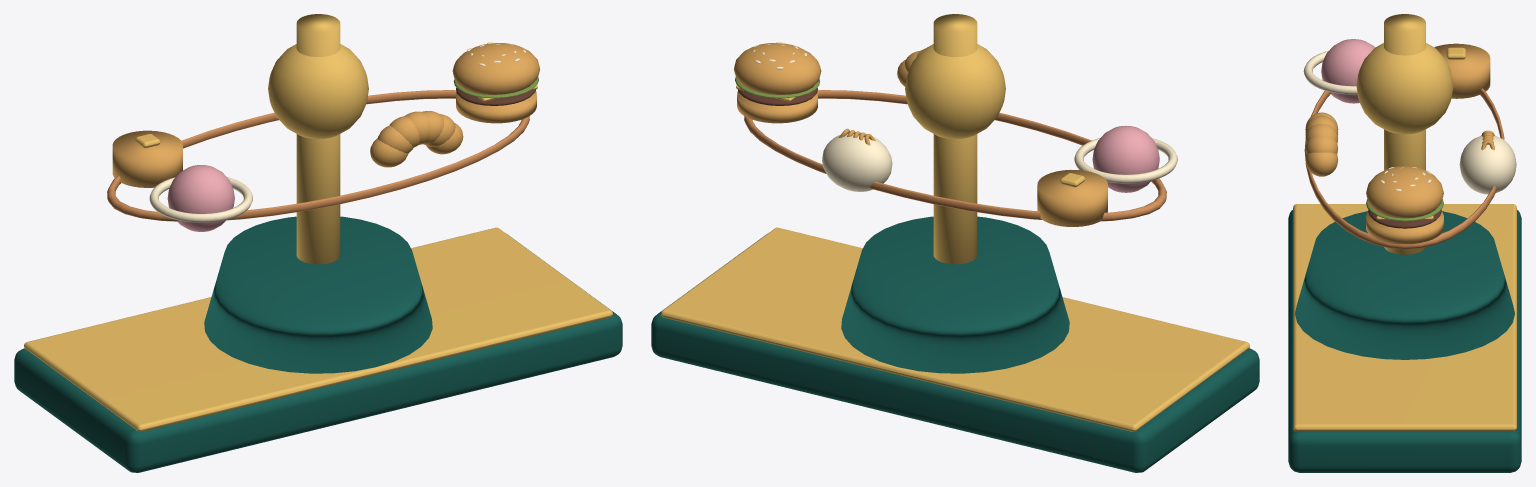
The picture shows the model from 3 angles, left to right: view 1: azimuth 30°, elevation 25°; view 2: azimuth 150°, elevation 25°; view 3: azimuth 270°, elevation 25°; orthographic projection. The views are drawn at different scales.
Visible parts, largest first — view 1: Jade footing, Brass welt, Orbit rim, Lower bun, Flaky crescent, Pancake planet, Sundae planet, Sundae ring; view 2: Jade footing, Brass welt, Lower bun, Orbit rim, Pancake planet, Pleated dumpling, Sundae planet, Sundae ring; view 3: Jade footing, Brass welt, Lower bun, Pleated dumpling, Orbit rim, Sundae planet, Pancake planet, Flaky crescent, Sundae ring, Patty, Lettuce.
Part boxes in pixels (box(x1,y1,x2,y2)): Jade footing: box(14, 216, 622, 472); Brass welt: box(24, 14, 612, 431); Orbit rim: box(107, 90, 529, 221); Lower bun: box(452, 43, 539, 123); Flaky crescent: box(370, 111, 463, 167); Pancake planet: box(112, 130, 182, 187); Sundae planet: box(167, 165, 234, 231); Sundae ring: box(149, 177, 252, 222); Jade footing: box(651, 216, 1259, 472); Brass welt: box(661, 14, 1249, 431); Lower bun: box(734, 43, 821, 123); Orbit rim: box(744, 90, 1166, 221); Pancake planet: box(1037, 169, 1107, 226); Pleated dumpling: box(822, 132, 892, 191); Sundae planet: box(1092, 125, 1159, 192); Sundae ring: box(1074, 138, 1177, 183); Jade footing: box(1288, 210, 1521, 472); Brass welt: box(1293, 14, 1516, 431); Lower bun: box(1366, 166, 1443, 244); Pleated dumpling: box(1459, 135, 1516, 194); Orbit rim: box(1304, 88, 1504, 249); Sundae planet: box(1321, 39, 1374, 103); Pancake planet: box(1434, 43, 1490, 98); Flaky crescent: box(1305, 112, 1338, 176); Sundae ring: box(1303, 51, 1357, 94); Patty: box(1368, 209, 1441, 228); Lettuce: box(1366, 199, 1443, 221).
Bounding box in the file's own units: 1.7 × 1.15 × 0.72.
